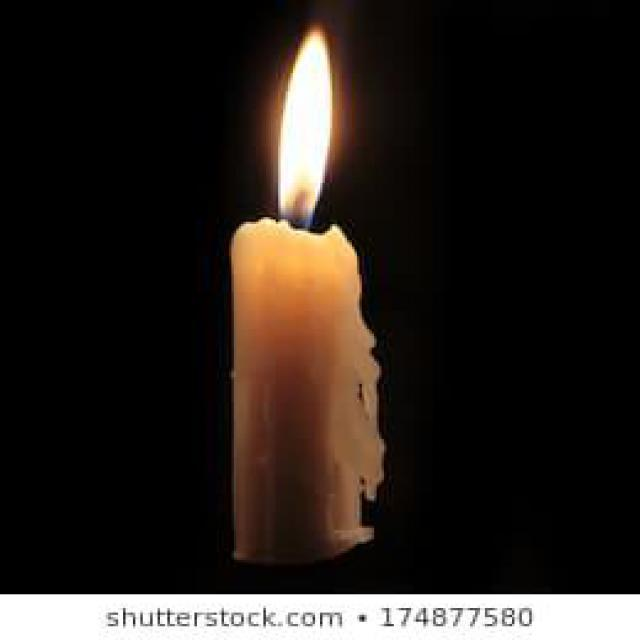Fire: (280, 25, 332, 226)
